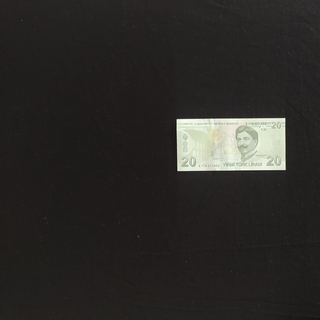20TLBack: (176, 117, 286, 170)
